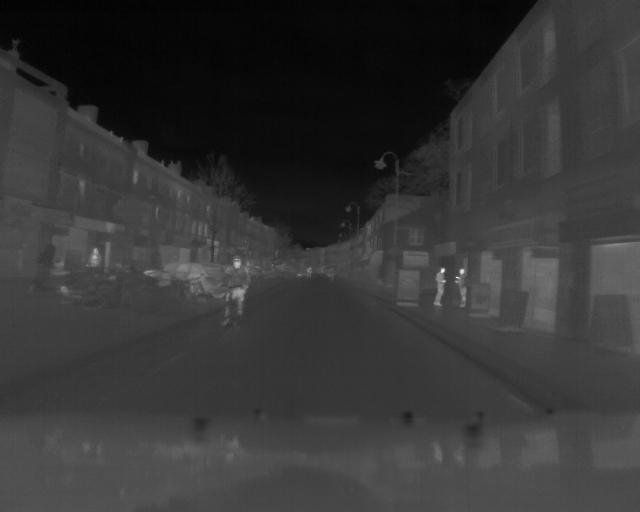car: (167, 261, 228, 298)
person: (220, 254, 248, 331), (432, 263, 448, 311), (455, 267, 470, 309)
